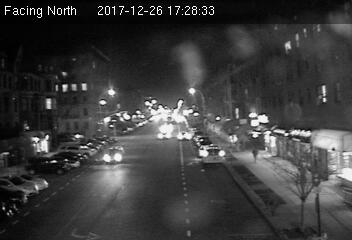car: (103, 145, 125, 166), (177, 131, 192, 141)
truck: (199, 147, 223, 165)
